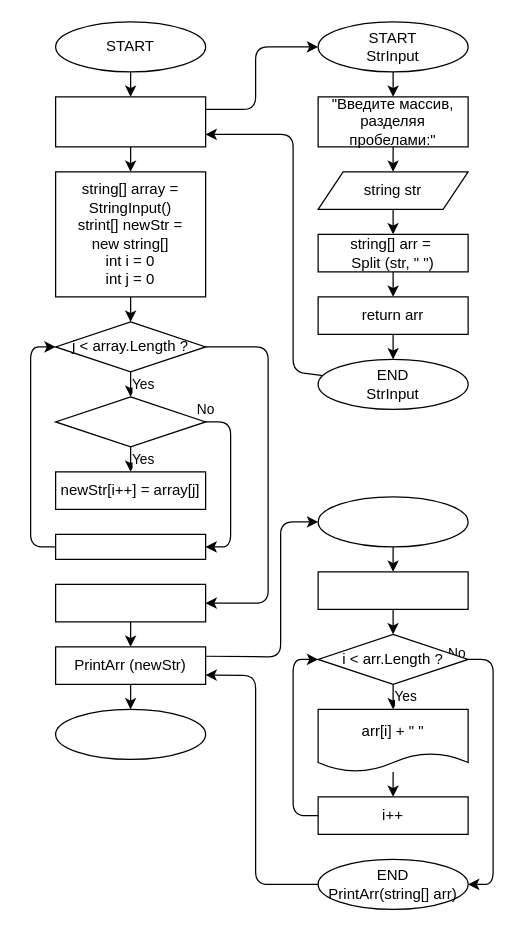
This 525x931 diagram has some shape labels left out. Each missing label, with the box of its shape:
array[j].Length < 4 ?: (54, 396, 206, 447)
END: (54, 708, 206, 759)
int i = 0: (317, 571, 468, 609)
j++: (54, 533, 206, 559)
Resize newStr: newStr.Length = i: (54, 583, 206, 622)
START PrintArr(string[] arr): (317, 496, 468, 547)
StrInput: (54, 96, 206, 147)
